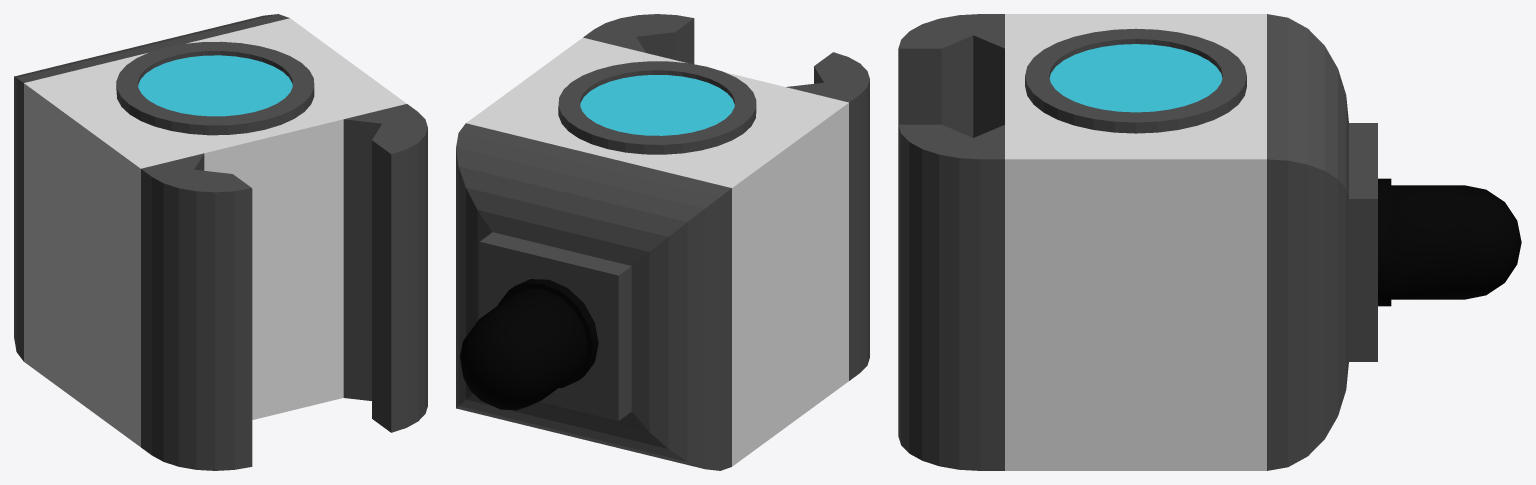
File: SpectatorCameraAttachment.fbx
3 renders of one model, left to right at view 1: azimuth 30°, elevation 25°; view 2: azimuth 150°, elevation 25°; view 3: azimuth 270°, elevation 25°, orthographic. The views are drawn at different scales.
Parts seen in each view (by area): view 1: CameraAttachment; view 2: CameraAttachment, CameraAttachmentLight; view 3: CameraAttachment, CameraAttachmentLight.
Boxes of the visible parts, left/top/right/bottom form: CameraAttachment: left=14, top=14, right=427, bottom=470; CameraAttachment: left=456, top=14, right=869, bottom=470; CameraAttachmentLight: left=460, top=279, right=598, bottom=410; CameraAttachment: left=898, top=14, right=1377, bottom=470; CameraAttachmentLight: left=1378, top=178, right=1521, bottom=306.
Size of the model in its own units: 0.03 by 0.0311 by 0.0544.
